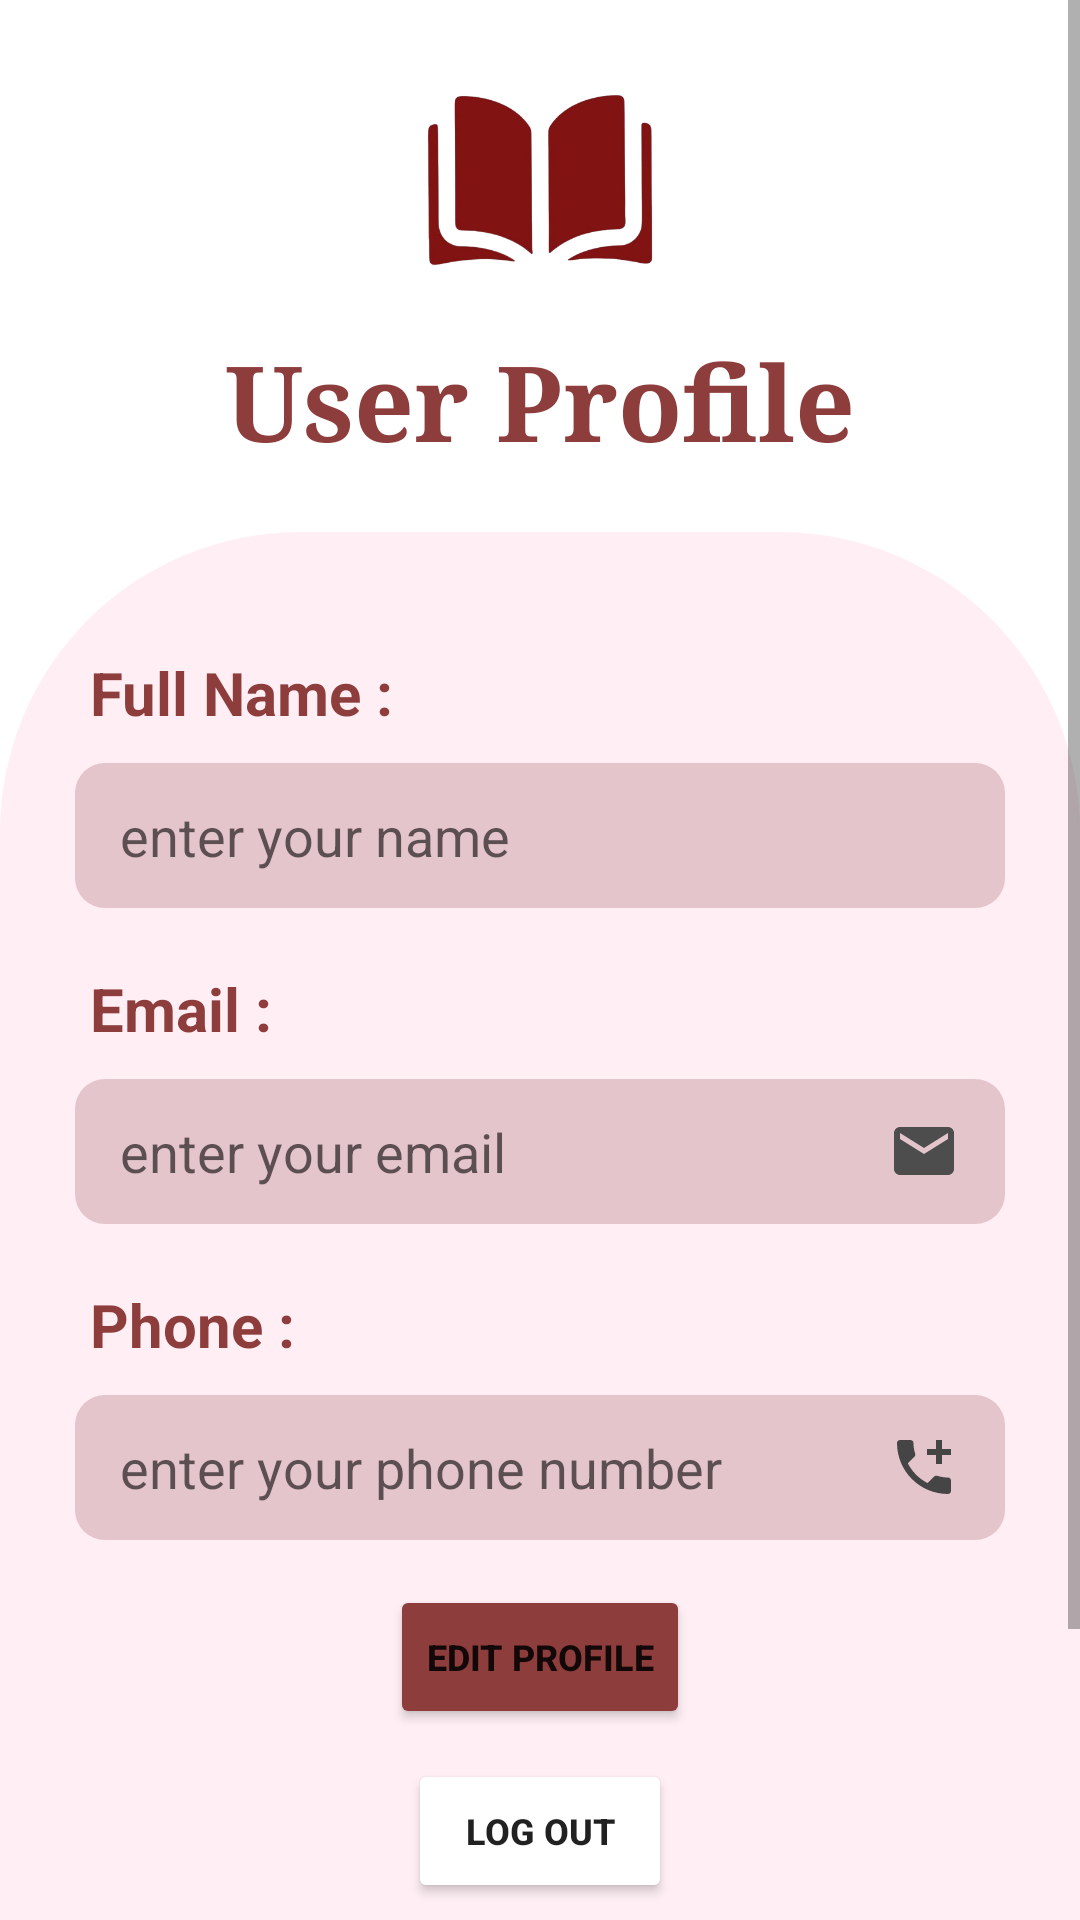

Where to tap for icons on this 1080×1920 app screen, as [x,y]:
book: [540,180]
